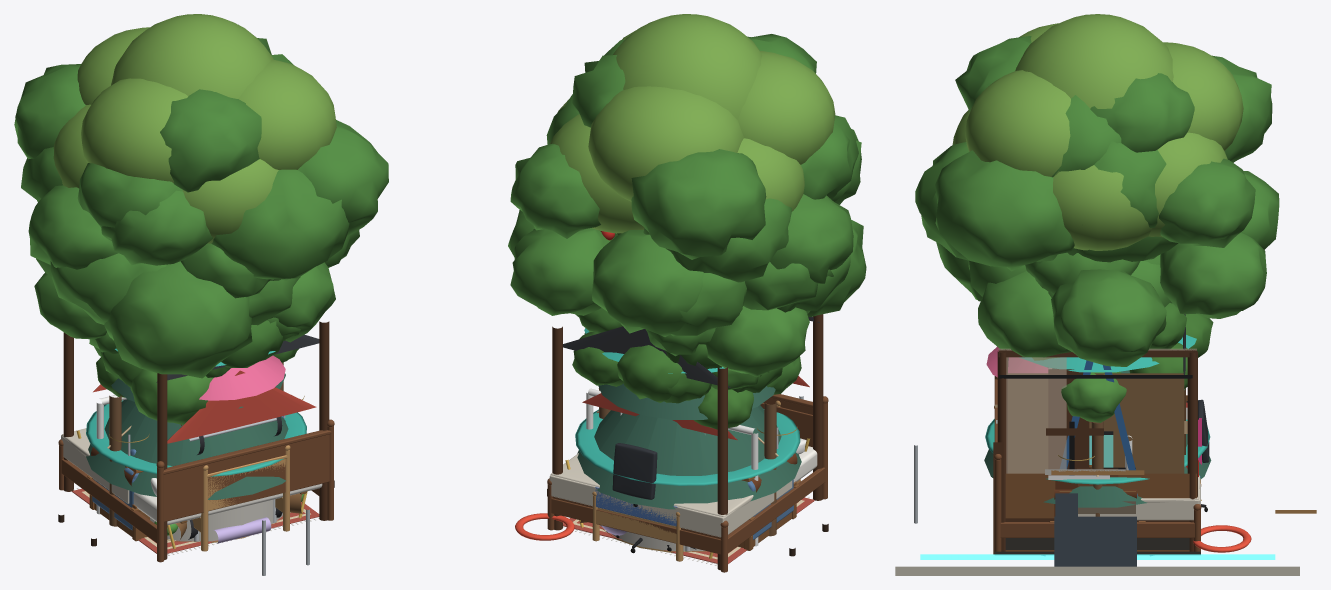
The model's file is hood-furniture.glb.
The picture shows the model from 3 angles, left to right: view 1: azimuth 30°, elevation 25°; view 2: azimuth 150°, elevation 25°; view 3: azimuth 270°, elevation 25°; orthographic projection.
Parts seen in each view (by area): view 1: tree, birch, bed-double, spruce, apple-tree, bed-canopy, playhouse, slide, bed-twin, trampoline, fountain, rug (+3 smaller); view 2: tree, birch, spruce, bed-double, apple-tree, bed-canopy, trampoline, bed-twin, computer, shed, rug, hammock (+4 smaller); view 3: tree, birch, shed, bed-canopy, pool, apple-tree, sofa-long, bed-double, hot-tub, bookshelf-wide, bed-queen, spruce (+6 smaller).
Boxes of the visible parts, box(x1,y1,x2,y2) form: tree: box(14, 24, 388, 378); birch: box(53, 14, 336, 243); bed-double: box(58, 419, 334, 562); spruce: box(86, 355, 288, 499); apple-tree: box(89, 317, 300, 424); bed-canopy: box(63, 321, 329, 560); playhouse: box(93, 370, 316, 443); slide: box(199, 355, 285, 400); bed-twin: box(192, 445, 290, 551); trampoline: box(86, 400, 306, 541); fountain: box(150, 500, 282, 541); rug: box(72, 488, 319, 555); tree: box(508, 34, 866, 377); birch: box(550, 14, 835, 233); spruce: box(577, 383, 801, 509); bed-double: box(547, 394, 828, 572); apple-tree: box(572, 231, 801, 429); bed-canopy: box(552, 314, 823, 570); trampoline: box(575, 409, 800, 551); bed-twin: box(592, 400, 780, 561); computer: box(612, 443, 671, 553); shed: box(563, 317, 819, 387); rug: box(563, 496, 814, 565); hammock: box(596, 388, 778, 536); tree: box(915, 36, 1279, 366); birch: box(952, 14, 1243, 250); shed: box(998, 314, 1192, 473); bed-canopy: box(993, 348, 1197, 554); pool: box(895, 445, 1316, 575); apple-tree: box(1061, 303, 1213, 422); sofa-long: box(1054, 493, 1136, 566); bed-double: box(994, 376, 1201, 551); hot-tub: box(1005, 395, 1196, 551); bookshelf-wide: box(1048, 369, 1089, 469); bed-queen: box(994, 538, 1200, 554); spruce: box(984, 368, 1211, 507).
Size of the model in its own units: 3.59 by 5.27 by 4.08.
